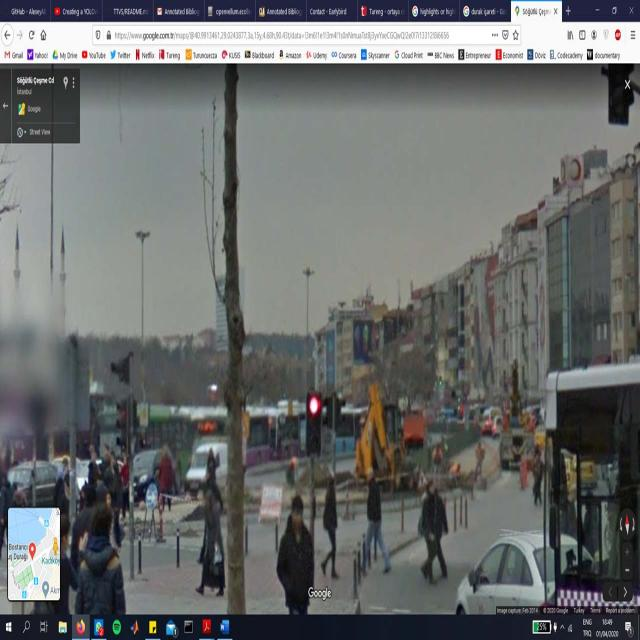kirmizi: (306, 390, 320, 456)
